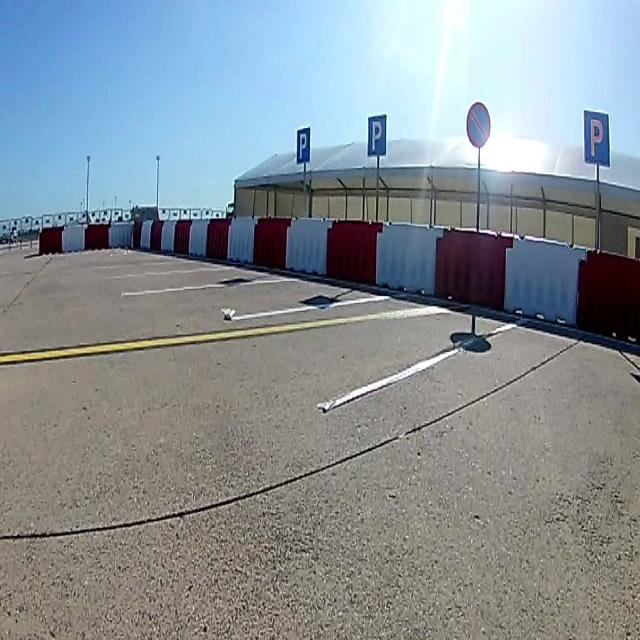park: (582, 110, 610, 166), (368, 115, 386, 154), (296, 126, 310, 164)
parkyasak: (468, 105, 490, 147)
